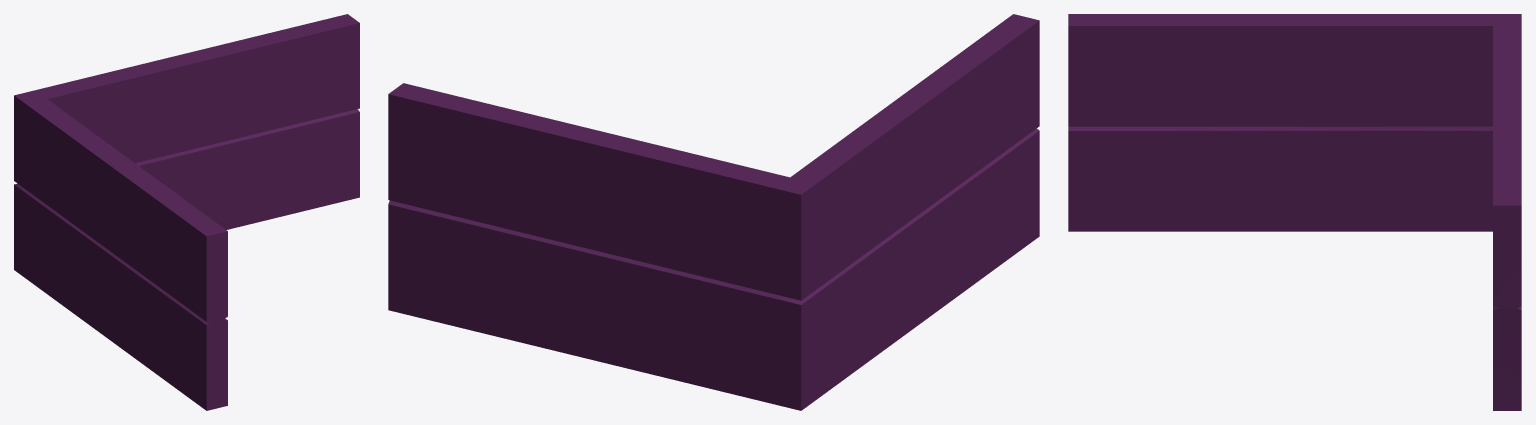
Rendered from Esquina_2.FBX.
3 renders of one model, left to right at view 1: azimuth 30°, elevation 25°; view 2: azimuth 150°, elevation 25°; view 3: azimuth 270°, elevation 25°, orthographic. The views are drawn at different scales.
Parts seen in each view (by area): view 1: Esquina_LP; view 2: Esquina_LP; view 3: Esquina_LP.
Part boxes in pixels (<box>): Esquina_LP: <box>14,14,359,410</box>; Esquina_LP: <box>388,14,1039,410</box>; Esquina_LP: <box>1068,14,1521,410</box>.
Bounding box in the file's own units: 158 × 78.74 × 157.
